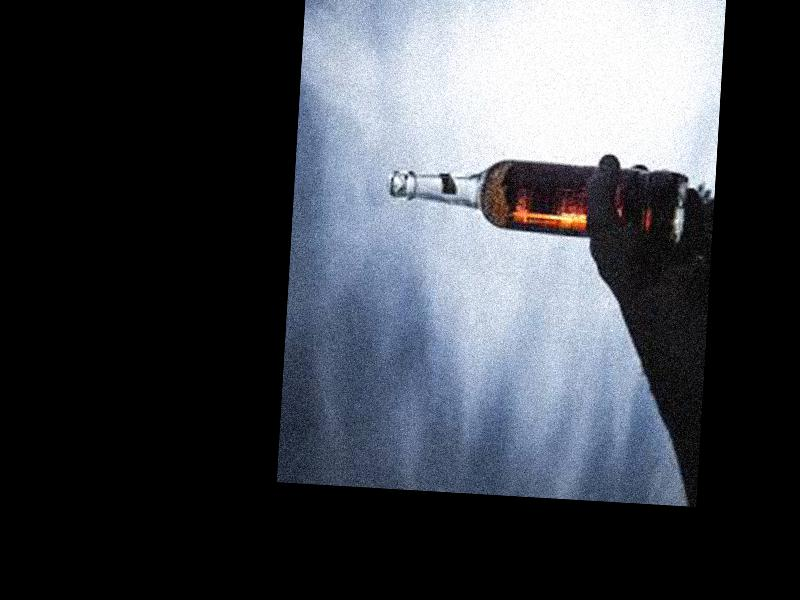Beer: (386, 156, 683, 243)
